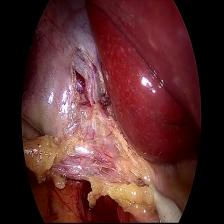Grasper: (20, 109, 49, 149)
Hook: (139, 172, 184, 224)
